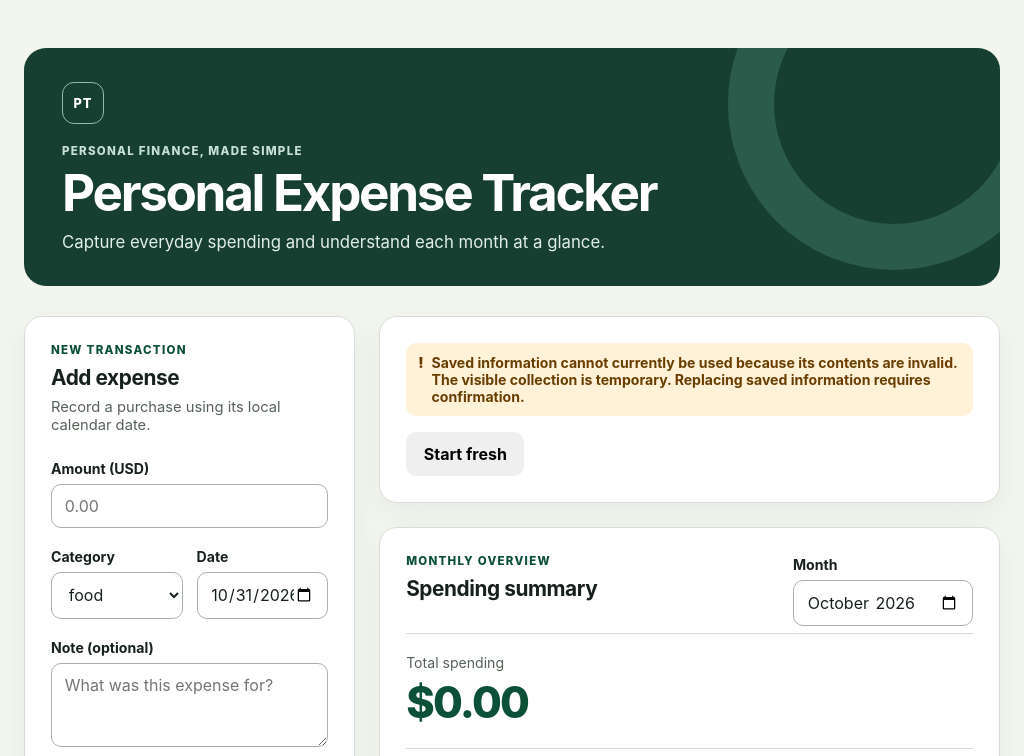
guarded recovery replacements › RECOVERY-002: confirmed start fresh writes exactly an empty version-1 envelope
The image size is (1024, 756).
Click the button "Start fresh": [465, 454] box [406, 432, 524, 476]
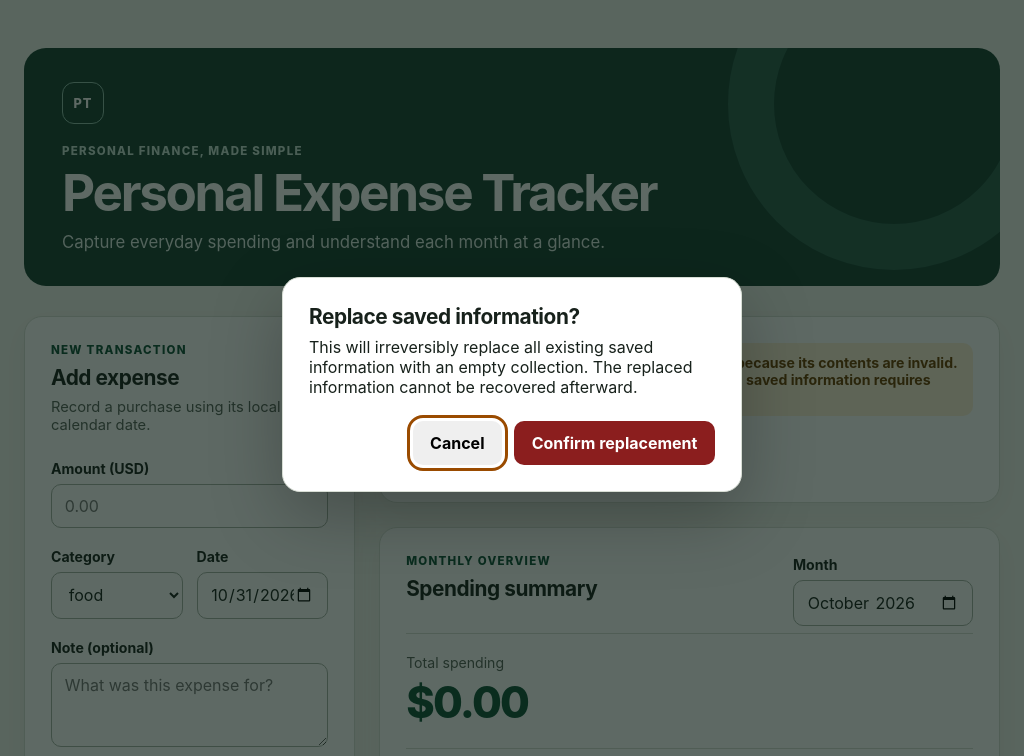
Click the button "Confirm replacement": [615, 442] box [514, 420, 715, 464]
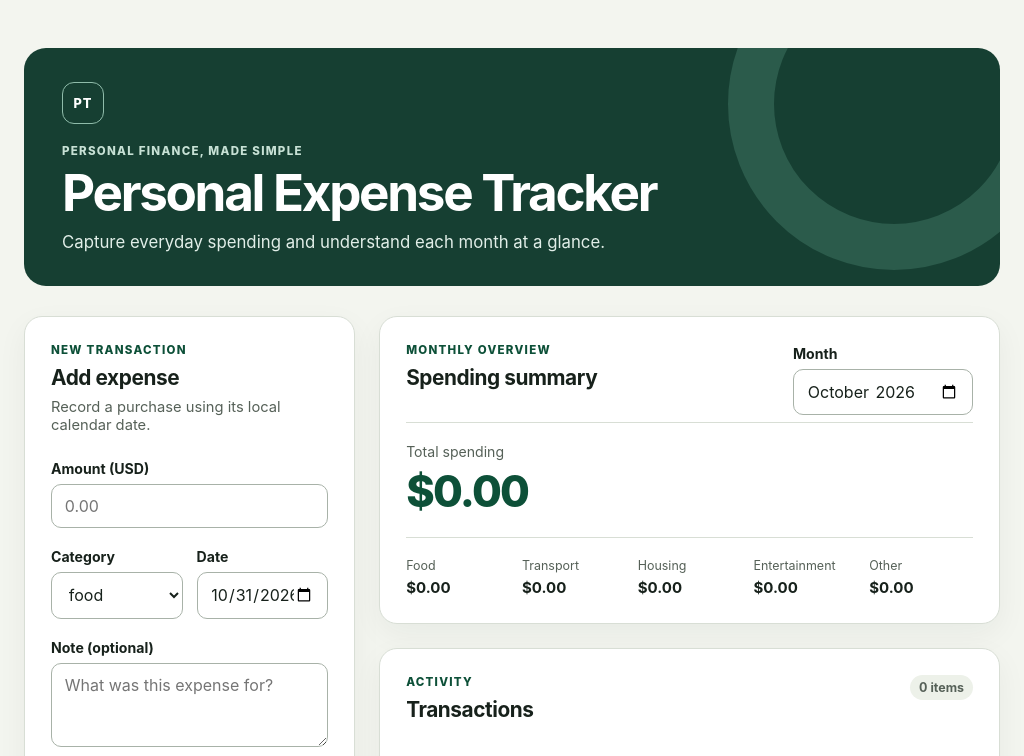
Expected: the text named "Monthly total" reads "$0.00", [406, 465, 528, 517]
Expected: the button "Start fresh" is gone
